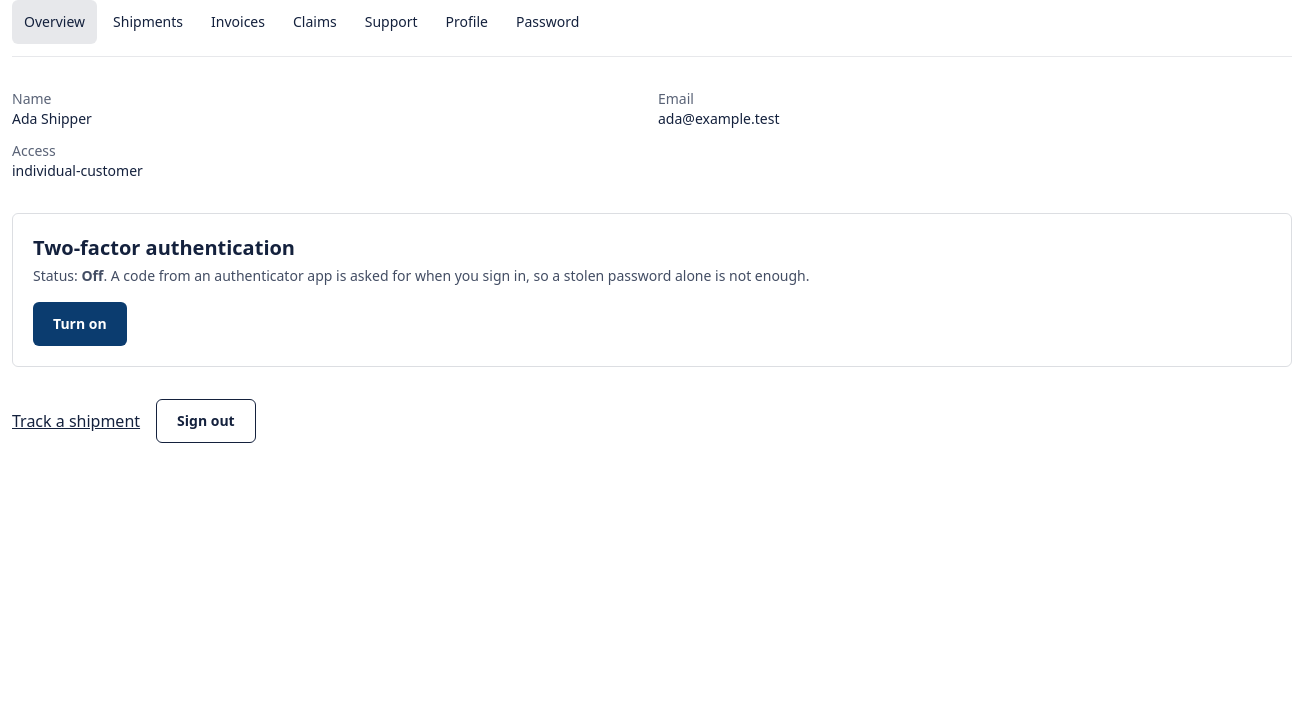
it: AccountView › does not pretend to sign out when the server could not be told
Click the button "Sign out". click: click(206, 421)
box: [156,399,256,443]
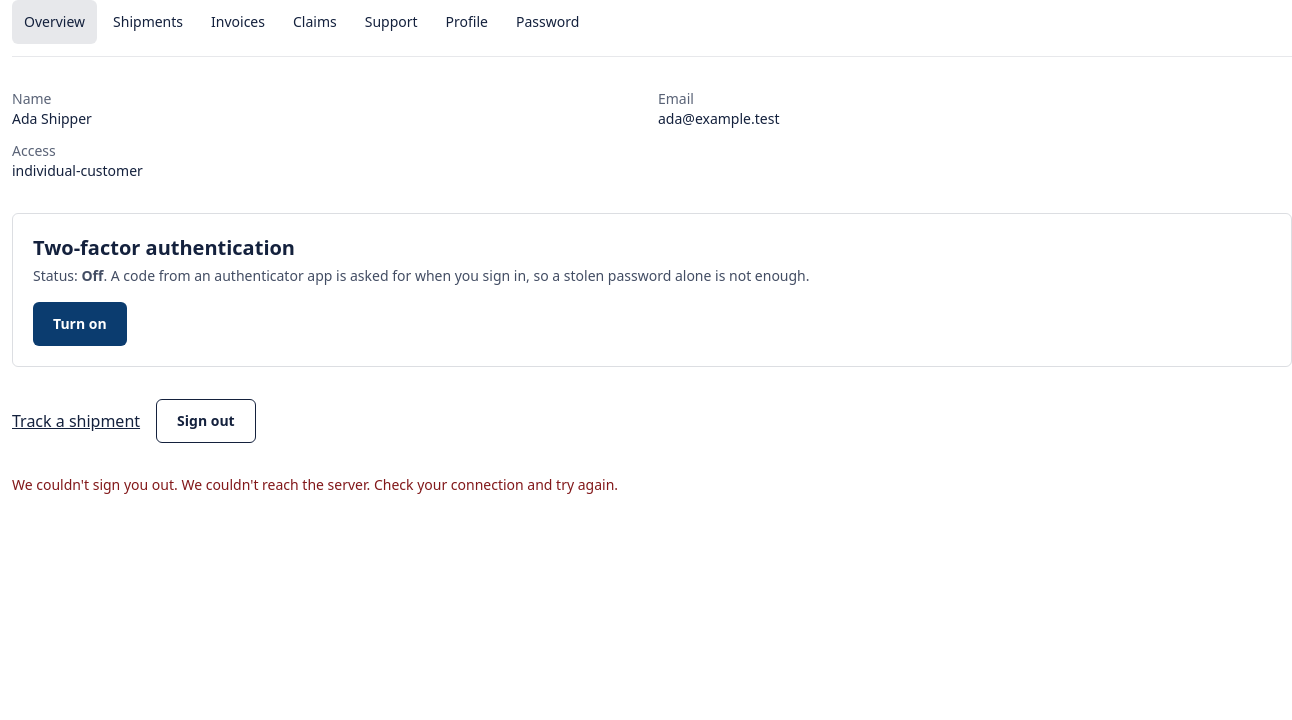
Now the message shows "We couldn't sign you out", box [12,475,618,494]
